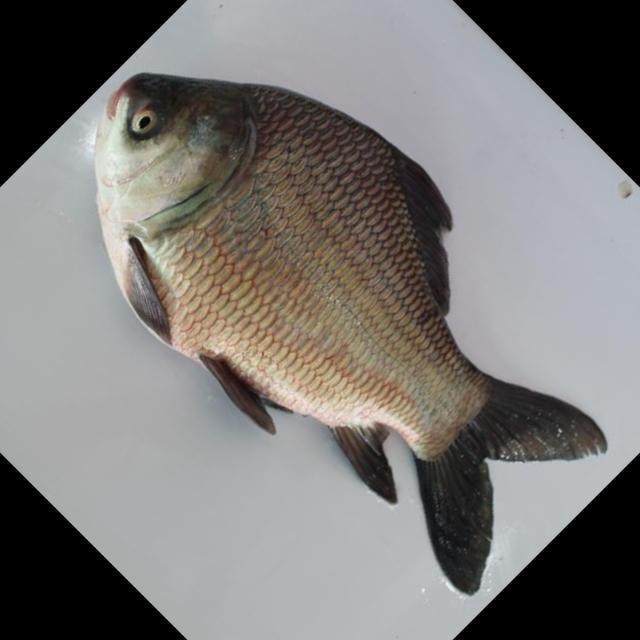Catla: (97, 71, 615, 599)
